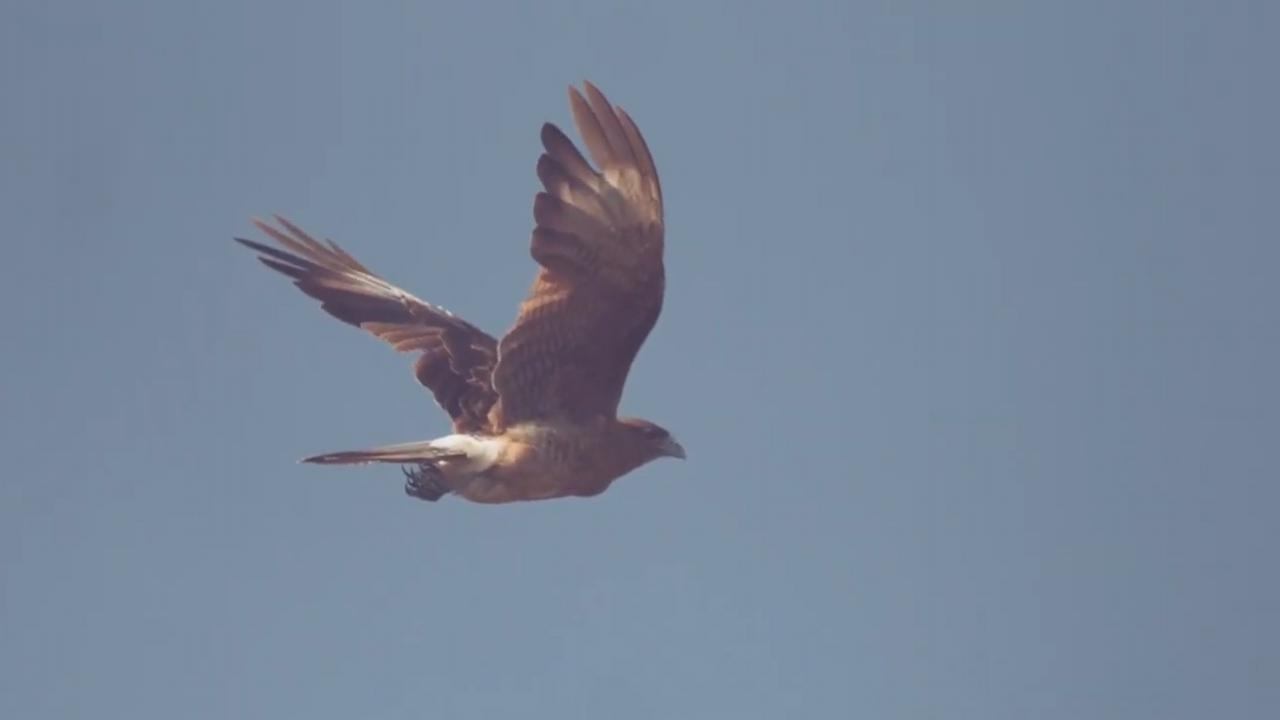Bird: (223, 68, 699, 512)
